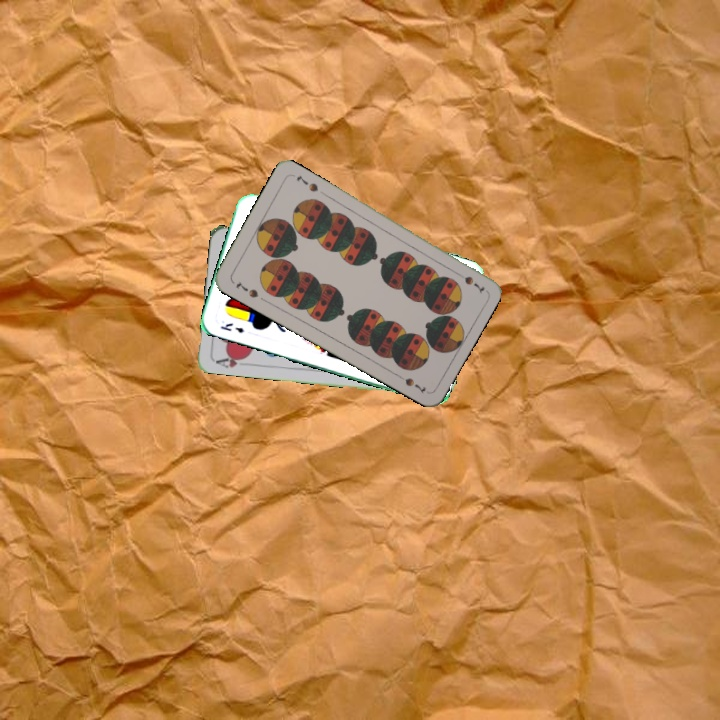EK: (216, 319, 246, 336)
HA: (211, 351, 250, 370)
S7: (450, 267, 487, 294), (232, 277, 261, 300)
